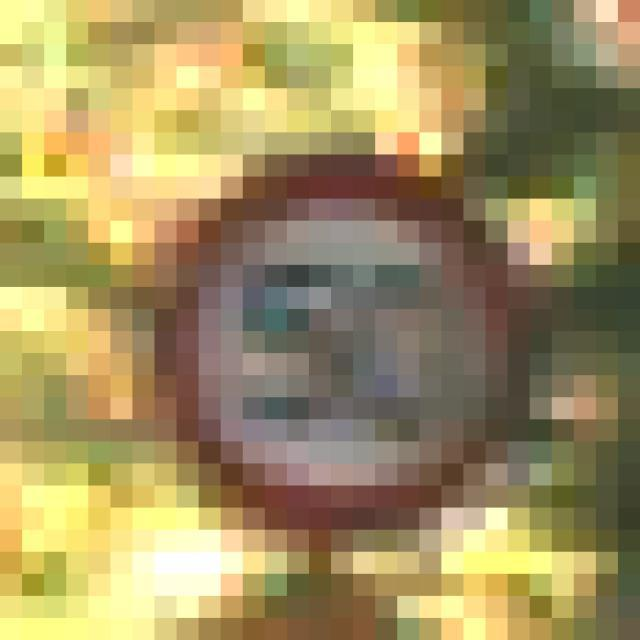Ograniczenie predkosci do 50: (174, 166, 520, 508)
